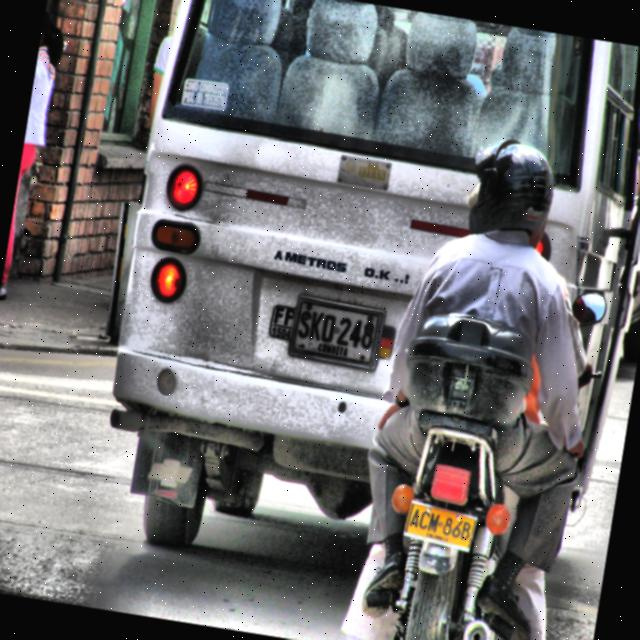2: (337, 317, 352, 347)
4: (348, 319, 364, 349)
8: (361, 322, 375, 350)
K: (309, 312, 324, 341)
O: (321, 314, 336, 344)
S: (297, 310, 313, 339)
